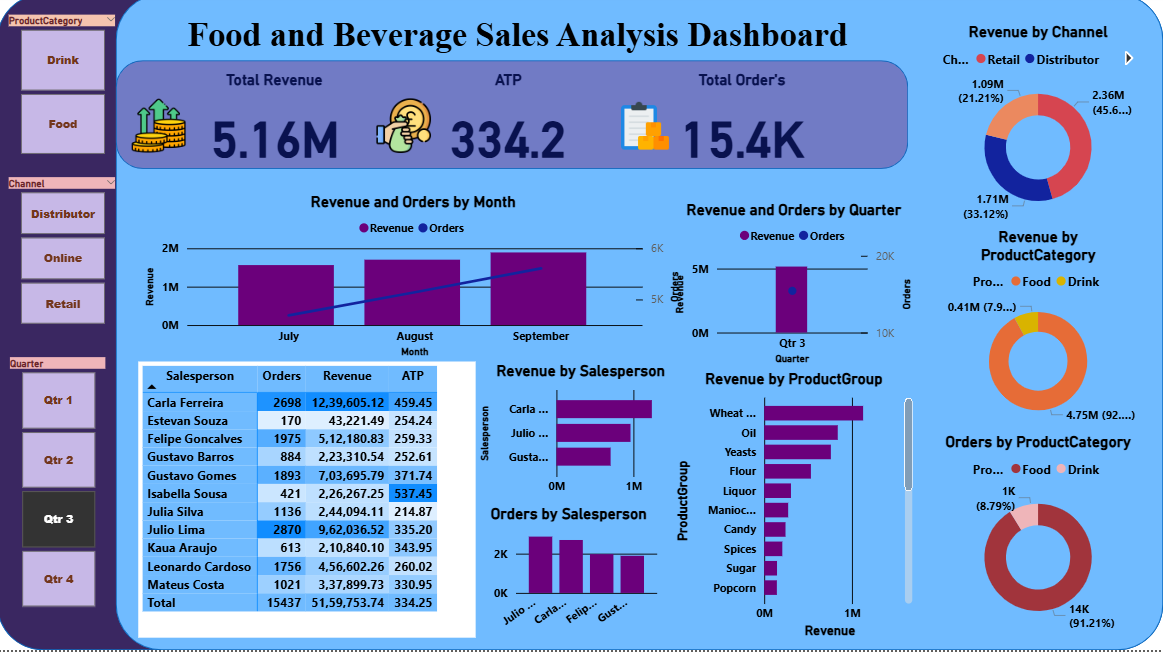

Layout of this report page (visuals, bound fields, positions):
{"tool":"powerbi","page":{"name":"Page 2","canvas":[1280,720],"ordinal":1},"visuals":[{"type":"shape","box":[0,0,1280.3,720.4],"z":0},{"type":"shape","box":[130.4,0,1149.9,720.4],"z":1000},{"type":"shape","box":[130.4,72.7,870,119.4],"z":2000},{"type":"card","title":"Total Revenue","fields":{"Values":["Product.Revenue"]},"box":[155.1,83.7,299.1,119.4],"z":3000},{"type":"card","title":"ATP","fields":{"Values":["Product.ATP"]},"box":[411.7,83.7,299.1,119.4],"z":4000},{"type":"card","title":"Total Order''s","fields":{"Values":["Product.Orders"]},"box":[668.3,83.7,299.1,119.4],"z":5000},{"type":"donutChart","fields":{"Y":["Product.Revenue"],"Category":["Sheet1.Channel"]},"box":[1033.3,31.6,219.6,225],"z":6000},{"type":"donutChart","fields":{"Y":["Product.Revenue"],"Category":["Product.ProductCategory"]},"box":[1033.3,256.6,219.6,225],"z":7000},{"type":"donutChart","fields":{"Category":["Product.ProductCategory"],"Y":["Product.Orders"]},"box":[1033.3,481.6,219.6,225],"z":8000},{"type":"lineStackedColumnComboChart","fields":{"Y":["Product.Revenue"],"Y2":["Product.Orders"],"Category":["Sheet1.OrderDate.Variation.Date Hierarchy.Quarter"]},"box":[739.6,226.4,270.3,185.2],"z":9000},{"type":"barChart","fields":{"Y":["Product.Revenue"],"Category":["Product.ProductGroup"]},"box":[739.6,411.7,270.3,300.5],"z":10000},{"type":"lineStackedColumnComboChart","fields":{"Y":["Product.Revenue"],"Y2":["Product.Orders"],"Category":["Sheet1.OrderDate.Variation.Date Hierarchy.Month"]},"box":[157.8,218.2,598.3,185.2],"z":11000},{"type":"barChart","fields":{"Y":["Product.Revenue"],"Category":["Sheet1.Salesperson"]},"box":[525.6,403.4,230.5,155.1],"z":12000},{"type":"clusteredColumnChart","fields":{"Y":["Product.Orders"],"Category":["Sheet1.Salesperson"]},"box":[525.6,559.9,204.5,146.8],"z":13000},{"type":"pivotTable","fields":{"Rows":["Sheet1.Salesperson"],"Values":["Product.Orders","Product.Revenue","Product.ATP"]},"box":[155.1,403.4,370.5,303.3],"z":14000},{"type":"slicer","fields":{"Values":["Product.ProductCategory"]},"box":[0,17.8,142.7,164.7],"z":15000},{"type":"slicer","fields":{"Values":["Sheet1.Channel"]},"box":[0,196.2,142.7,172.9],"z":16000},{"type":"slicer","fields":{"Values":["Sheet1.OrderDate.Variation.Date Hierarchy.Quarter"]},"box":[1.4,393.8,130.4,285.4],"z":17000},{"type":"textbox","box":[142.7,17.8,857.6,54.9],"z":18000},{"type":"image","box":[142.7,109.8,70,70],"z":19000},{"type":"image","box":[676.5,109.8,70,70],"z":20000},{"type":"image","box":[411.7,109.8,70,70],"z":21000}]}

Visuals, with their boxes in screenshot pixels (x1, y1, x2, y2), scaled from the page's 1280x720 canvas onto the 1163x652 screenshot:
shape: x1=0 y1=0 x2=1162 y2=651
shape: x1=118 y1=0 x2=1162 y2=651
shape: x1=118 y1=66 x2=909 y2=174
"Total Revenue" card: x1=141 y1=76 x2=413 y2=184
"ATP" card: x1=374 y1=76 x2=646 y2=184
"Total Order''s" card: x1=607 y1=76 x2=879 y2=184
donutChart - Product.Revenue x Sheet1.Channel: x1=939 y1=29 x2=1138 y2=232
donutChart - Product.Revenue x Product.ProductCategory: x1=939 y1=232 x2=1138 y2=436
donutChart - Product.ProductCategory x Product.Orders: x1=939 y1=436 x2=1138 y2=640
lineStackedColumnComboChart - Product.Revenue x Product.Orders: x1=672 y1=205 x2=918 y2=373
barChart - Product.Revenue x Product.ProductGroup: x1=672 y1=373 x2=918 y2=645
lineStackedColumnComboChart - Product.Revenue x Product.Orders: x1=143 y1=198 x2=687 y2=365
barChart - Product.Revenue x Sheet1.Salesperson: x1=478 y1=365 x2=687 y2=506
clusteredColumnChart - Product.Orders x Sheet1.Salesperson: x1=478 y1=507 x2=663 y2=640
pivotTable - Sheet1.Salesperson x Product.Orders: x1=141 y1=365 x2=478 y2=640
slicer - Product.ProductCategory: x1=0 y1=16 x2=130 y2=165
slicer - Sheet1.Channel: x1=0 y1=178 x2=130 y2=334
slicer - Sheet1.OrderDate.Variation.Date Hierarchy.Quarter: x1=1 y1=357 x2=120 y2=615
textbox: x1=130 y1=16 x2=909 y2=66
image: x1=130 y1=99 x2=193 y2=163
image: x1=615 y1=99 x2=678 y2=163
image: x1=374 y1=99 x2=438 y2=163
